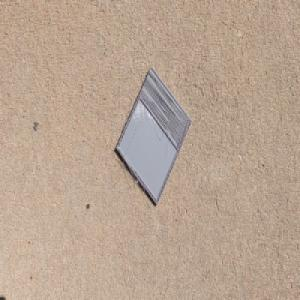PlasticPart: (114, 65, 192, 206)
